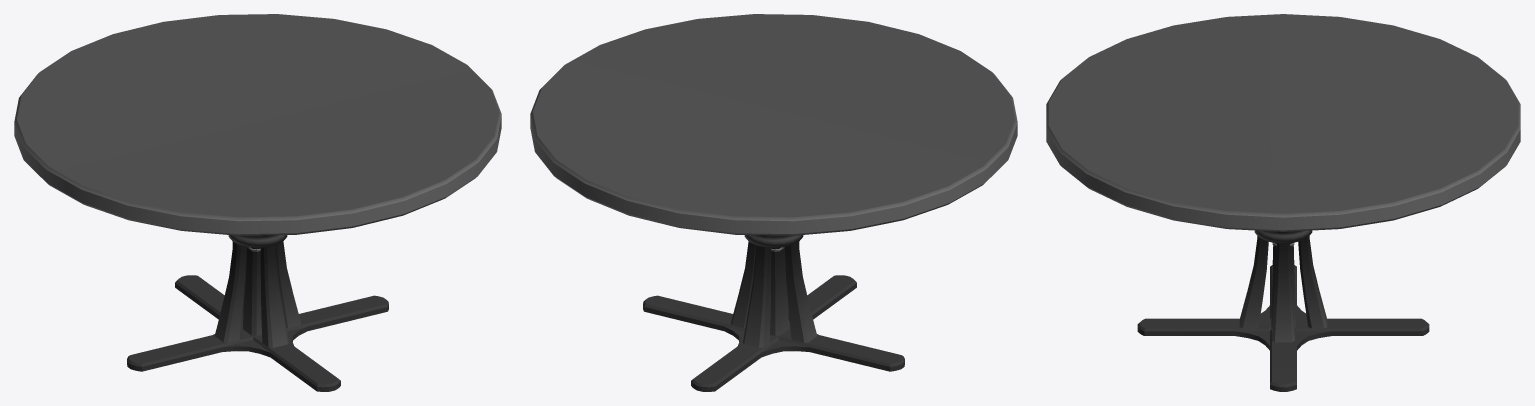
Rendered from Poker_Table.fbx.
The picture shows the model from 3 angles, left to right: view 1: azimuth 30°, elevation 25°; view 2: azimuth 150°, elevation 25°; view 3: azimuth 270°, elevation 25°; orthographic projection. The views are drawn at different scales.
Visible parts, largest first — view 1: polySurface206; view 2: polySurface206; view 3: polySurface206.
Boxes of the visible parts, bbox=[...] form: polySurface206: bbox=[14, 14, 501, 391]; polySurface206: bbox=[530, 14, 1017, 391]; polySurface206: bbox=[1046, 14, 1520, 391].
Bounding box in the file's own units: 1.59 × 0.7952 × 1.58.
